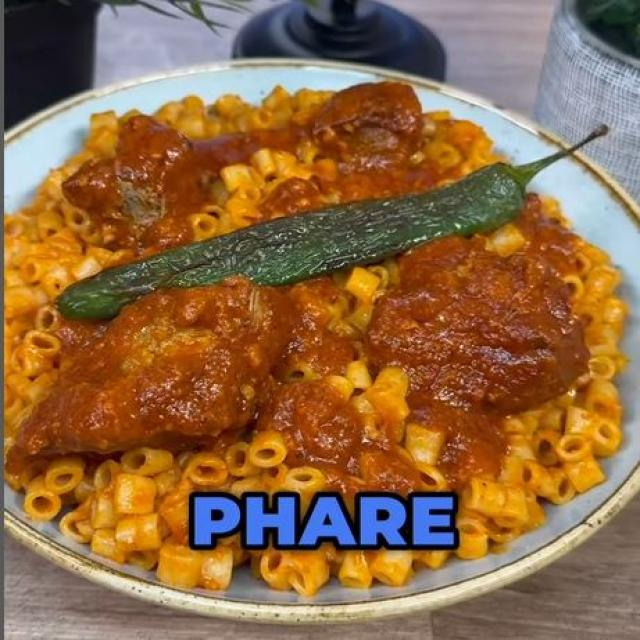Pasta: (11, 86, 621, 586)
